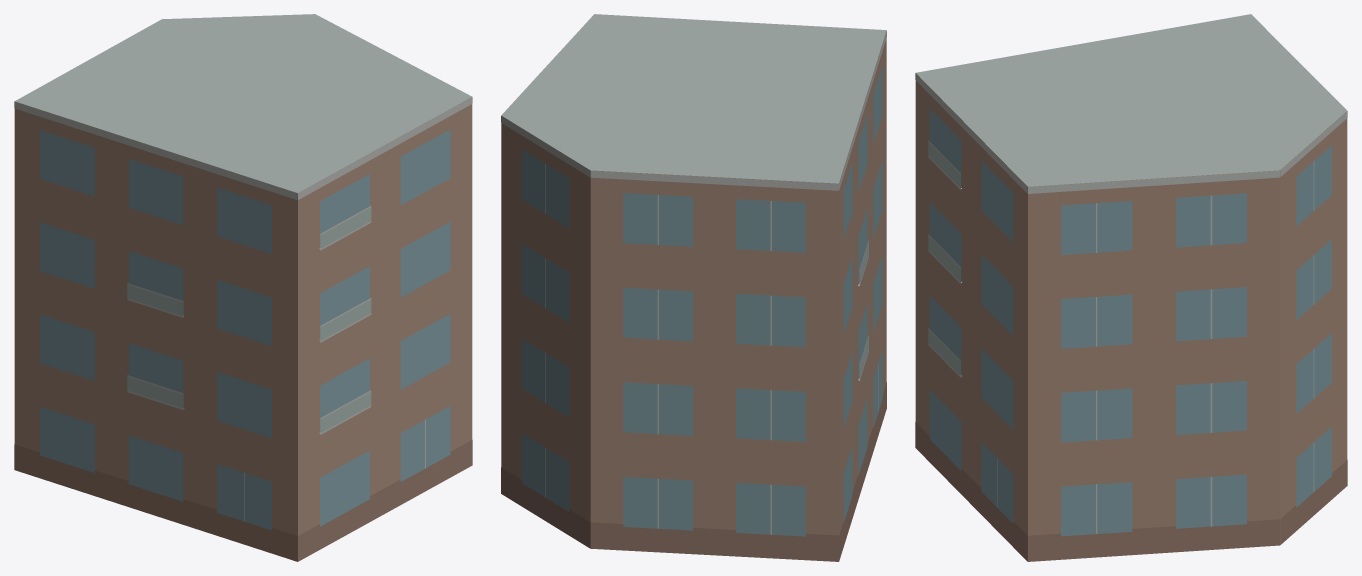
Rendered from survey-upis-32588364.glb.
The picture shows the model from 3 angles, left to right: view 1: azimuth 30°, elevation 25°; view 2: azimuth 150°, elevation 25°; view 3: azimuth 270°, elevation 25°; orthographic projection. The views are drawn at different scales.
Parts seen in each view (by area): view 1: survey-upis-32588364.tmp; view 2: survey-upis-32588364.tmp; view 3: survey-upis-32588364.tmp.
Part boxes in pixels (box(x1,y1,x2,y2)): survey-upis-32588364.tmp: box(14, 14, 472, 561); survey-upis-32588364.tmp: box(501, 14, 886, 561); survey-upis-32588364.tmp: box(915, 14, 1347, 561).
Size of the model in its own units: 12.56 by 12.7 by 13.27.
